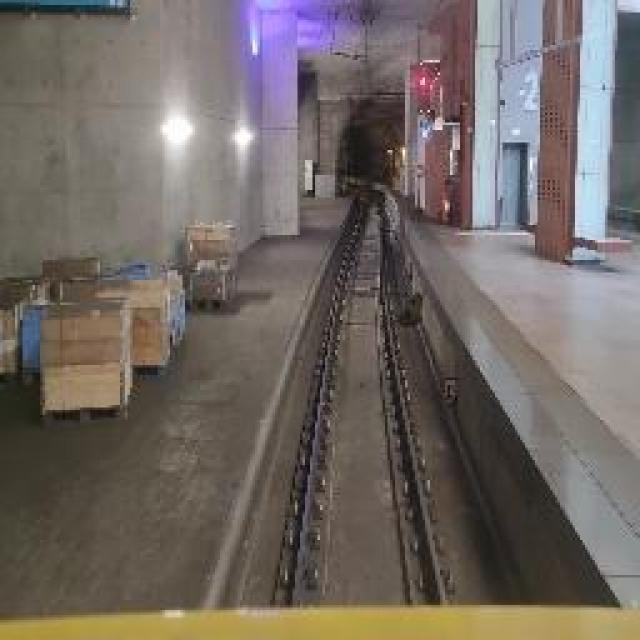rail: (245, 197, 478, 610)
